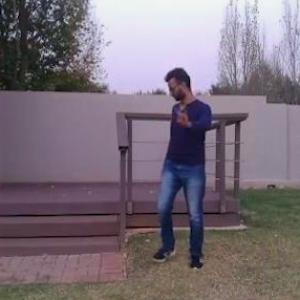takeoff-hand: (174, 102, 198, 130)
